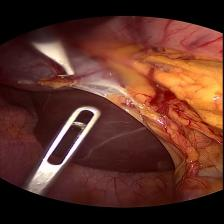Grasper: (21, 102, 102, 190)
Hook: (28, 35, 78, 79)
